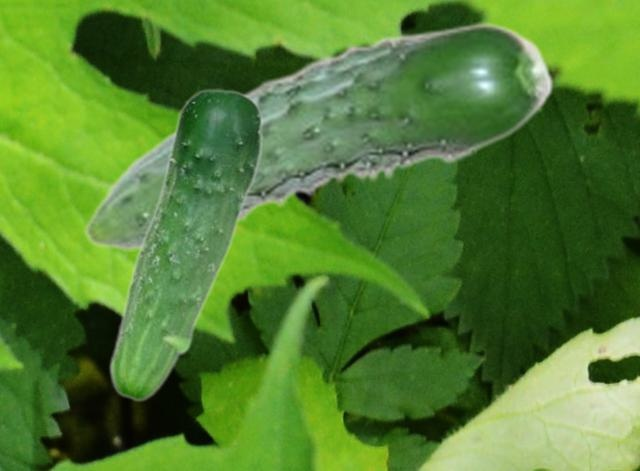cucumber: (83, 22, 554, 250), (107, 88, 263, 401)
